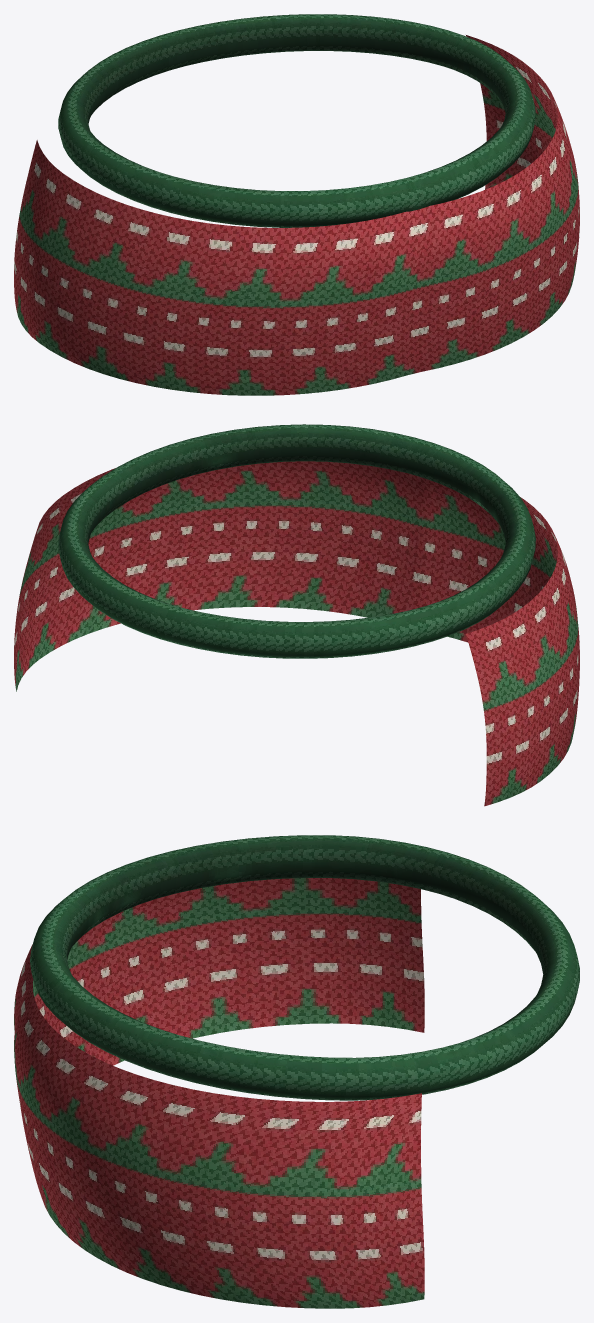
The model's file is holiday_sweater.glb.
The picture shows the model from 3 angles, top to bottom: view 1: azimuth 30°, elevation 25°; view 2: azimuth 150°, elevation 25°; view 3: azimuth 270°, elevation 25°; orthographic projection. The views are drawn at different scales.
Visible parts, largest first — view 1: holiday_sweater_body, holiday_sweater_collar; view 2: holiday_sweater_body, holiday_sweater_collar; view 3: holiday_sweater_body, holiday_sweater_collar.
Boxes of the visible parts, left/top/right/bottom form: holiday_sweater_body: left=14, top=35, right=579, bottom=395; holiday_sweater_collar: left=58, top=14, right=535, bottom=227; holiday_sweater_body: left=14, top=461, right=579, bottom=806; holiday_sweater_collar: left=58, top=424, right=535, bottom=658; holiday_sweater_body: left=14, top=878, right=424, bottom=1308; holiday_sweater_collar: left=30, top=835, right=579, bottom=1100.
Bounding box in the file's own units: 32.39 × 11.85 × 26.87.
Materials: 1 (1 with a texture image).
